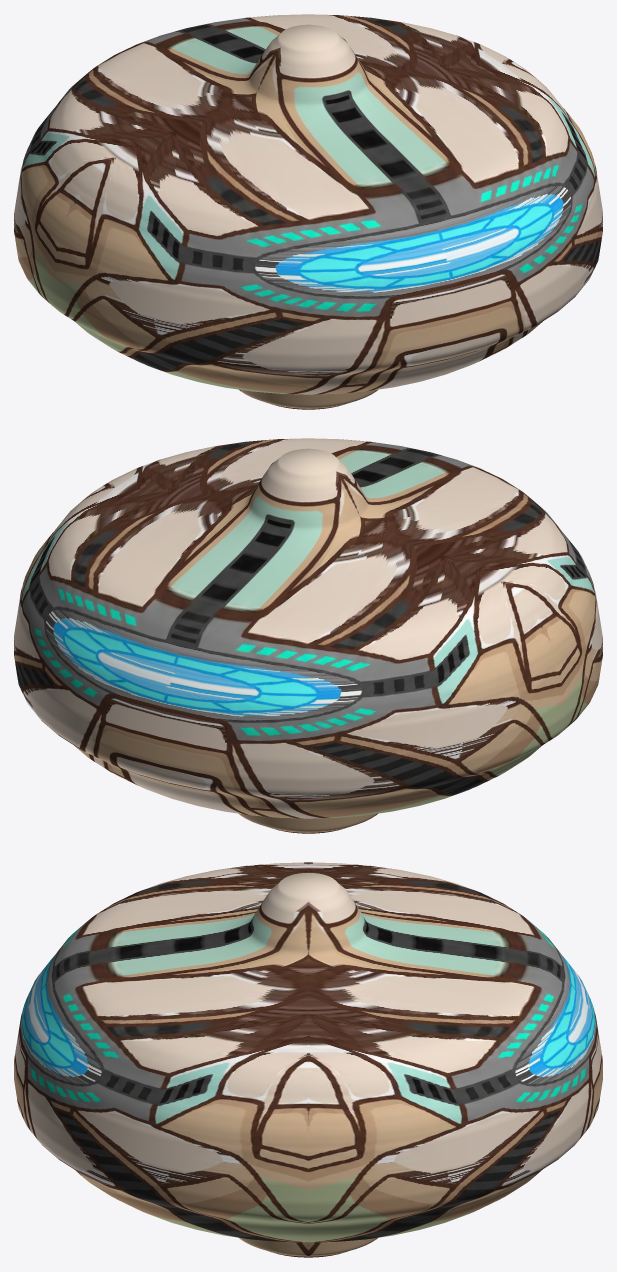
File: portal_machine.glb
The picture shows the model from 3 angles, top to bottom: view 1: azimuth 30°, elevation 25°; view 2: azimuth 150°, elevation 25°; view 3: azimuth 270°, elevation 25°; orthographic projection.
Parts seen in each view (by area): view 1: portal_machine; view 2: portal_machine; view 3: portal_machine.
Part boxes in pixels (x1,y1,x2,y2): portal_machine: (14, 14, 602, 409); portal_machine: (14, 438, 602, 833); portal_machine: (14, 862, 602, 1257).
Size of the model in its own units: 1 by 0.6523 by 1.
Materials: 1 (1 with a texture image).
